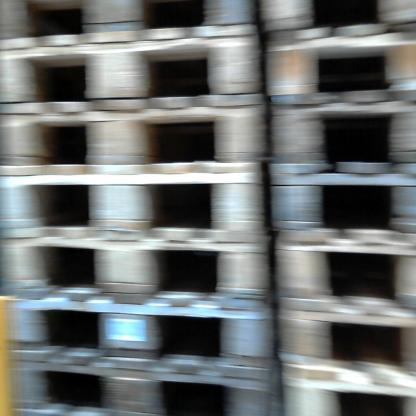pallet: (1, 287, 278, 369), (3, 90, 268, 175), (3, 174, 279, 253), (8, 346, 284, 412), (3, 42, 273, 107), (1, 230, 271, 293), (265, 76, 414, 183), (265, 295, 412, 387), (1, 4, 259, 53), (266, 220, 412, 305), (264, 24, 409, 104), (271, 159, 409, 235), (278, 354, 414, 413), (261, 4, 412, 38)
